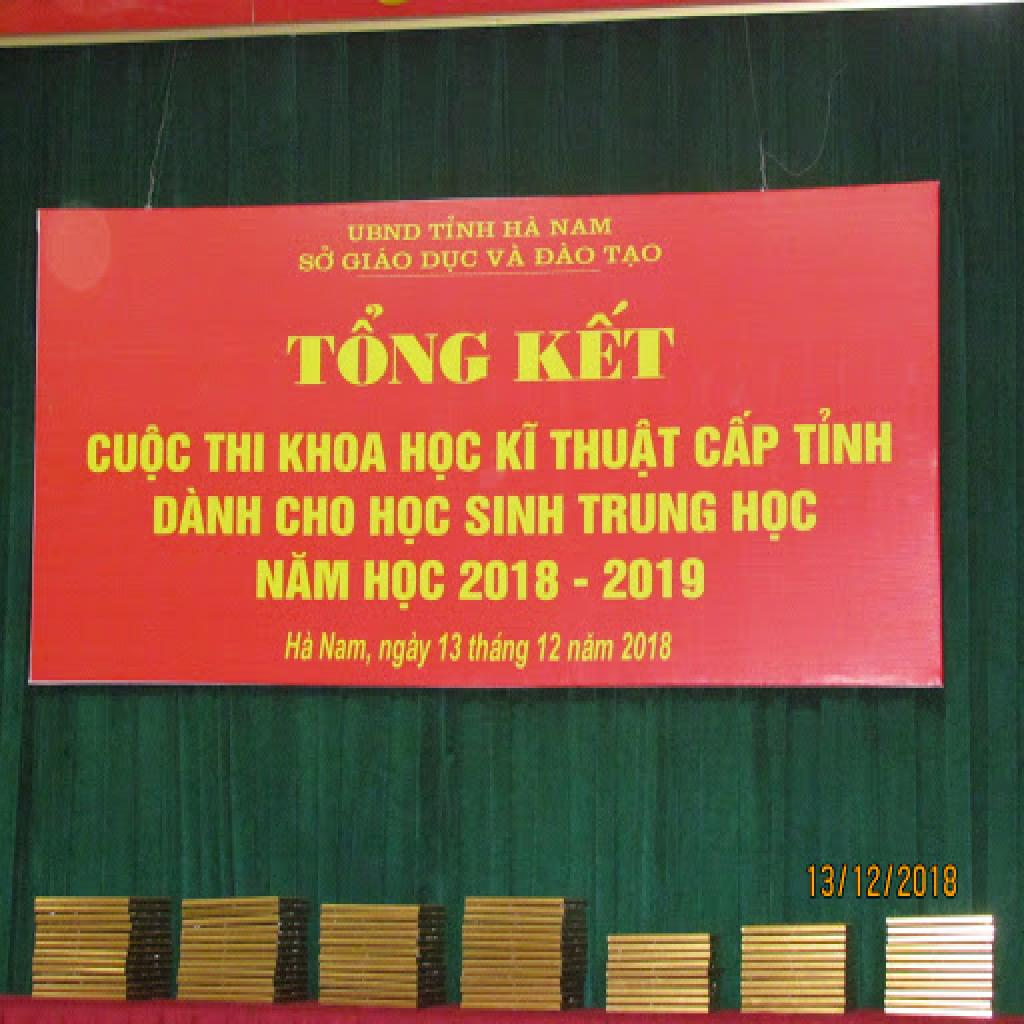text: (280, 293, 492, 395), (510, 293, 676, 392), (546, 419, 688, 480), (786, 405, 900, 472), (82, 421, 194, 488), (578, 490, 718, 538), (456, 550, 558, 614), (148, 486, 264, 542), (688, 408, 786, 472), (596, 550, 708, 606), (252, 544, 352, 605), (726, 485, 824, 547), (360, 552, 446, 619), (276, 426, 392, 474), (460, 490, 570, 538), (396, 427, 482, 485), (362, 493, 452, 547), (272, 493, 356, 539), (198, 429, 268, 480), (466, 626, 534, 674), (490, 418, 544, 474), (342, 243, 414, 280), (600, 240, 664, 280), (426, 211, 500, 245), (530, 240, 598, 277), (318, 629, 376, 672), (376, 632, 436, 672), (620, 630, 678, 670), (418, 248, 480, 280), (482, 242, 528, 282), (566, 629, 618, 664), (344, 221, 422, 243), (546, 216, 614, 240), (282, 626, 320, 666), (296, 243, 340, 277), (534, 629, 568, 667), (436, 626, 468, 666), (502, 213, 542, 240)
